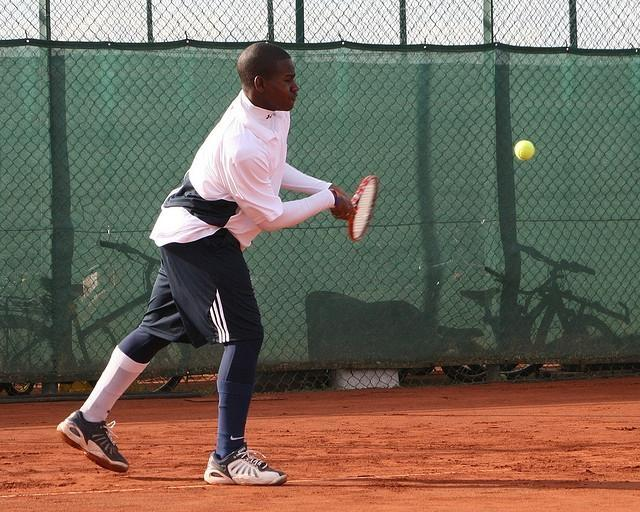bicycle: (1, 239, 189, 403), (523, 237, 634, 370), (462, 284, 498, 341), (484, 266, 505, 283)
